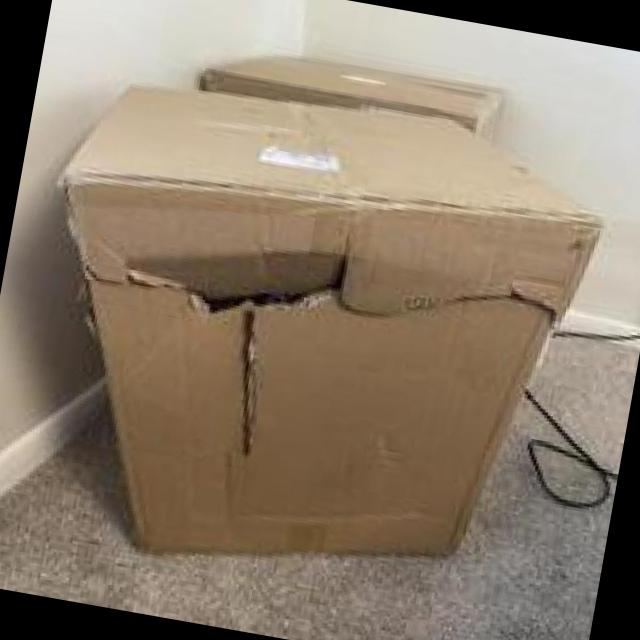box: (36, 80, 566, 607)
